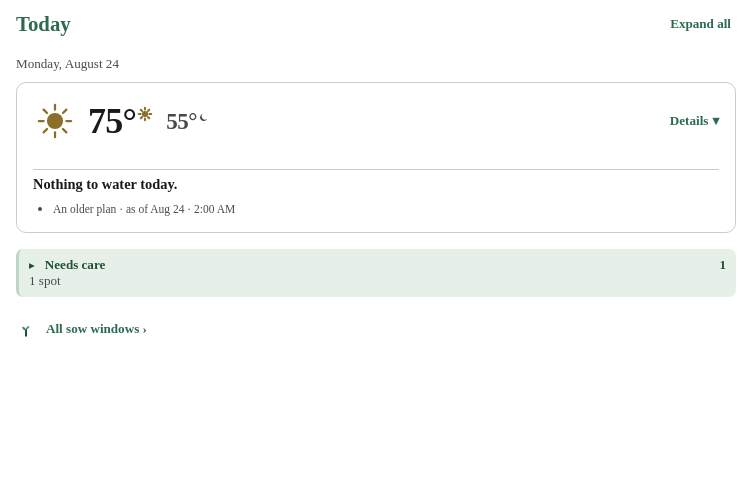
it: FIRES — the real 2026-08-04..08-23 run reaches the screen › Today renders the server's day count, once, and names the held-off planting
Step 1. Click the button "75° 55° Details ▾ Nothing to water today." → coordinates (61, 106), box [33, 99, 719, 194]
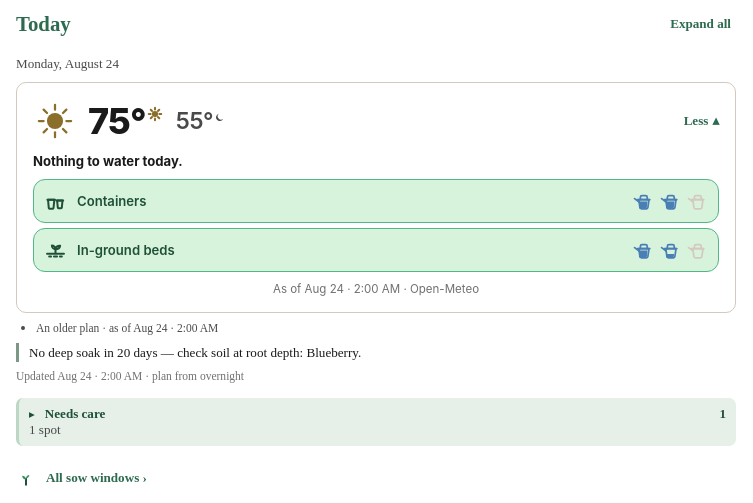
expect the number of elements with test id "drought-line" is 1: met, box [16, 343, 736, 362]
expect the element with test id "drought-line" shows "No deep soak in 20 days — check soil at root depth:": met, box [29, 345, 306, 360]
expect the text "Blueberry." is shown: met, box [306, 345, 361, 360]
